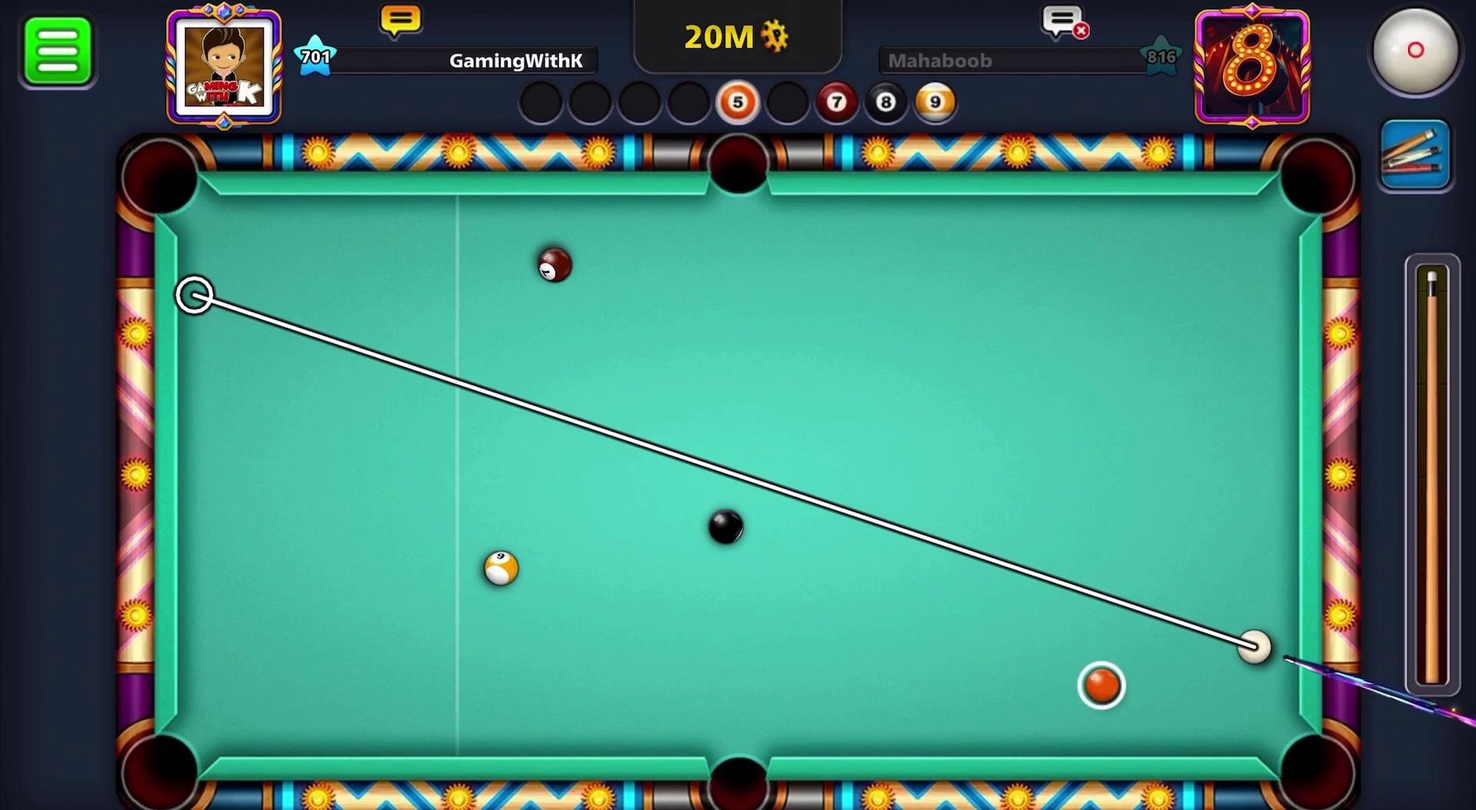Ball: (697, 503, 754, 551), (1071, 662, 1128, 709), (474, 543, 525, 592), (528, 245, 576, 287)
Force: (1395, 250, 1470, 703)
Guideline: (175, 275, 1271, 662)
Hole: (106, 127, 215, 232), (1269, 128, 1366, 231), (115, 727, 205, 809), (691, 735, 781, 809), (701, 125, 779, 201)
Play_Area: (177, 191, 1298, 759)
Spin: (1346, 0, 1475, 112)
White: (1232, 624, 1283, 671)
